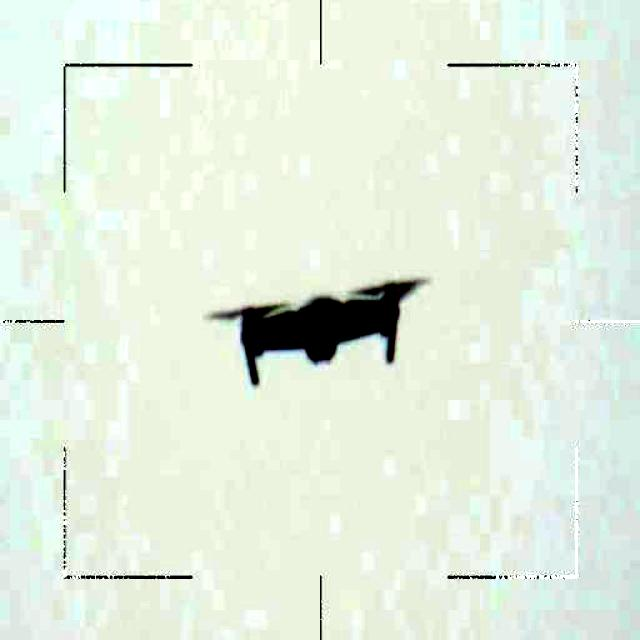bird: (199, 270, 435, 392)
